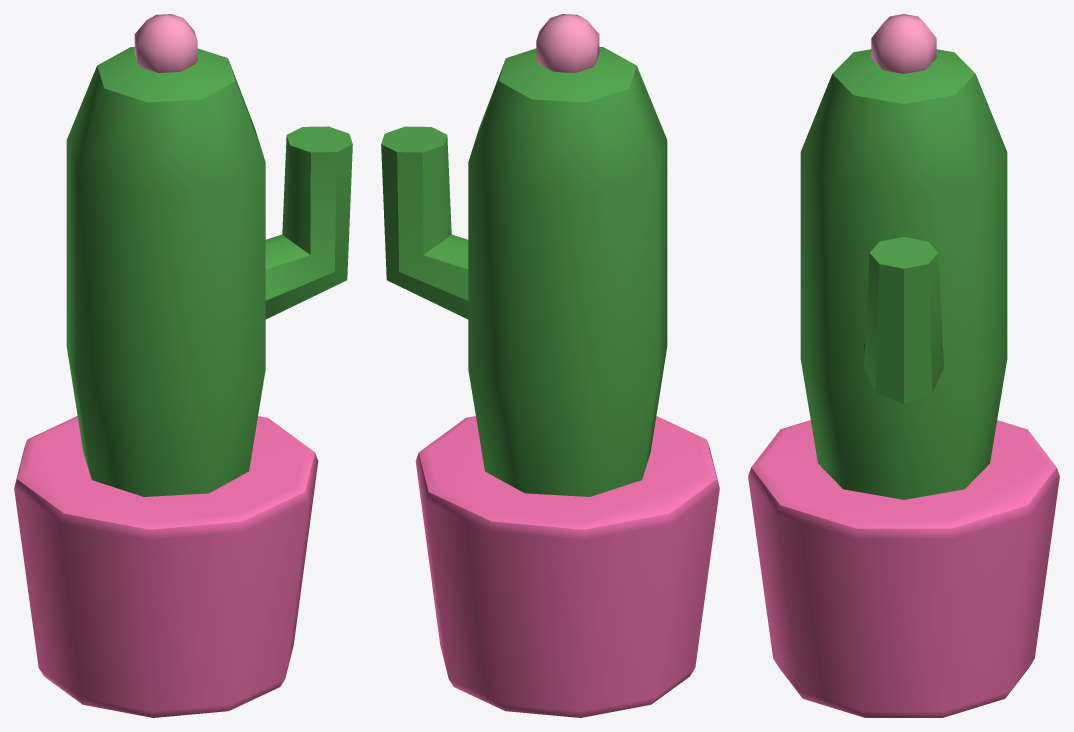
File: CactusPot.fbx
3 renders of one model, left to right at view 1: azimuth 30°, elevation 25°; view 2: azimuth 150°, elevation 25°; view 3: azimuth 270°, elevation 25°, orthographic.
Parts seen in each view (by area): view 1: CactusPot; view 2: CactusPot; view 3: CactusPot.
Boxes of the visible parts, bbox=[...] form: CactusPot: bbox=[14, 14, 352, 717]; CactusPot: bbox=[381, 14, 719, 717]; CactusPot: bbox=[748, 14, 1059, 717].
Size of the model in its own units: 1.26 by 2.52 by 1.09.
Materials: 1 (1 with a texture image).
